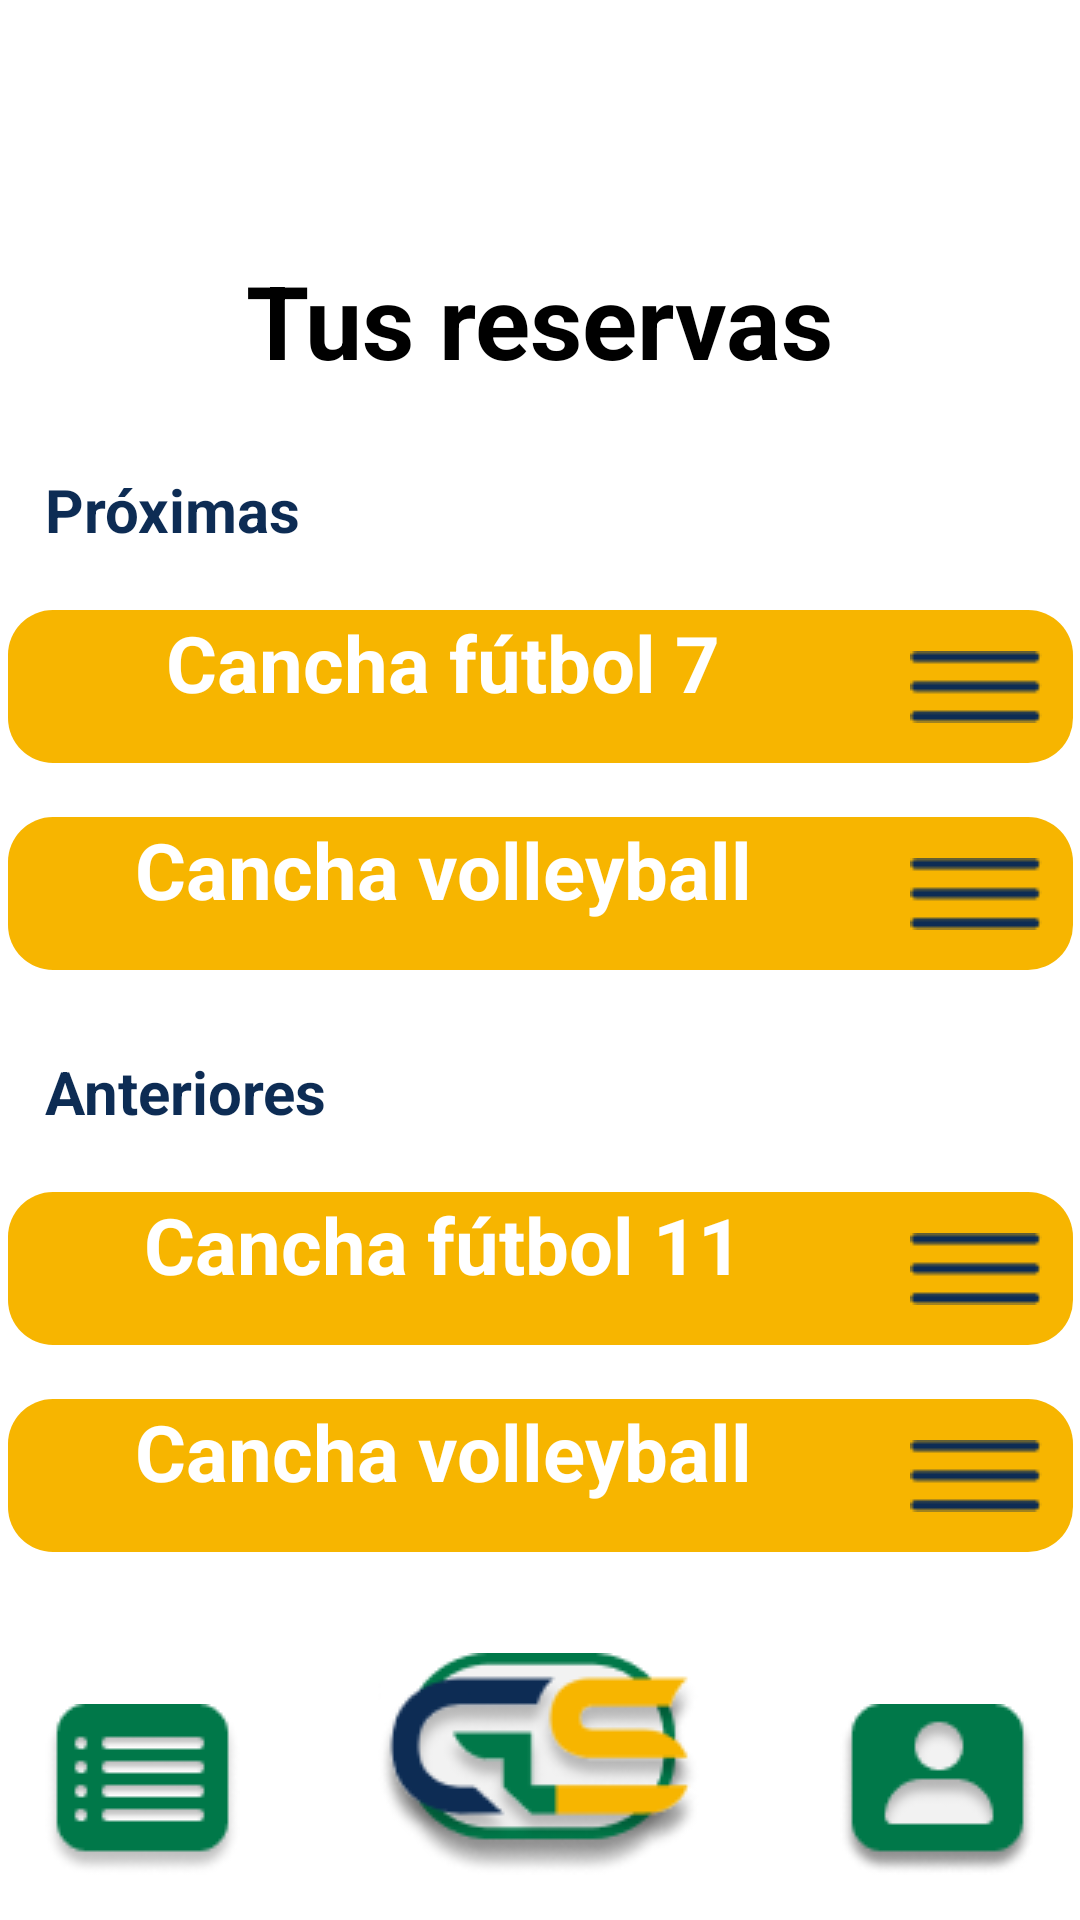

Point at icon controls on the screen. Image size 1080*1920, points as point (x, y).
lista: point (142, 1784)
perfil: point (937, 1786)
